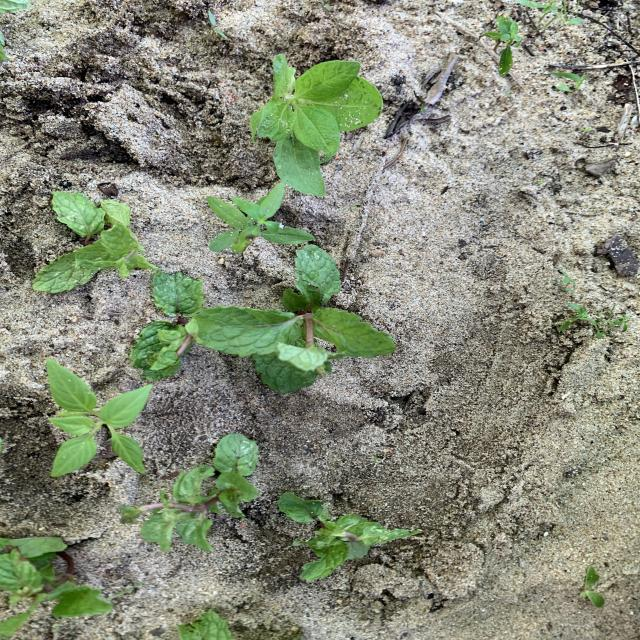crop: (130, 245, 394, 393), (119, 434, 259, 551), (33, 192, 156, 293), (279, 493, 418, 579), (0, 537, 112, 640), (178, 610, 235, 639), (179, 611, 235, 639)
weed: (250, 54, 382, 196), (46, 360, 152, 476), (207, 184, 314, 251), (485, 18, 522, 75), (579, 567, 602, 607), (557, 303, 589, 331), (552, 72, 588, 91), (110, 581, 143, 598), (556, 272, 574, 291), (613, 315, 627, 331), (1, 437, 3, 451), (373, 457, 379, 461)
